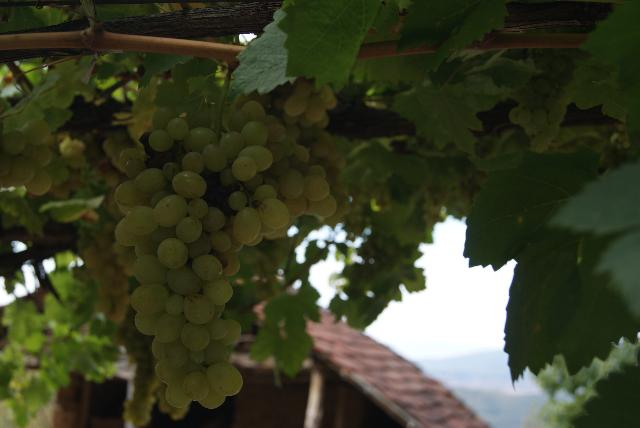grapes: (115, 101, 336, 410)
